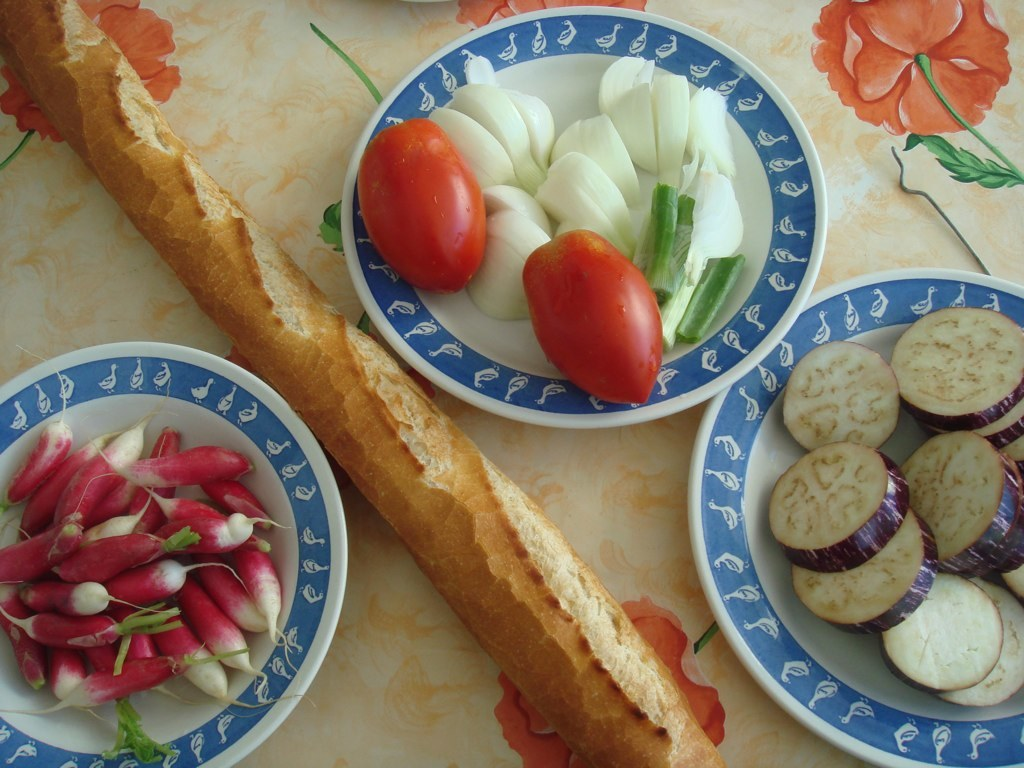Tomato: (513, 221, 673, 399), (353, 112, 492, 292)
